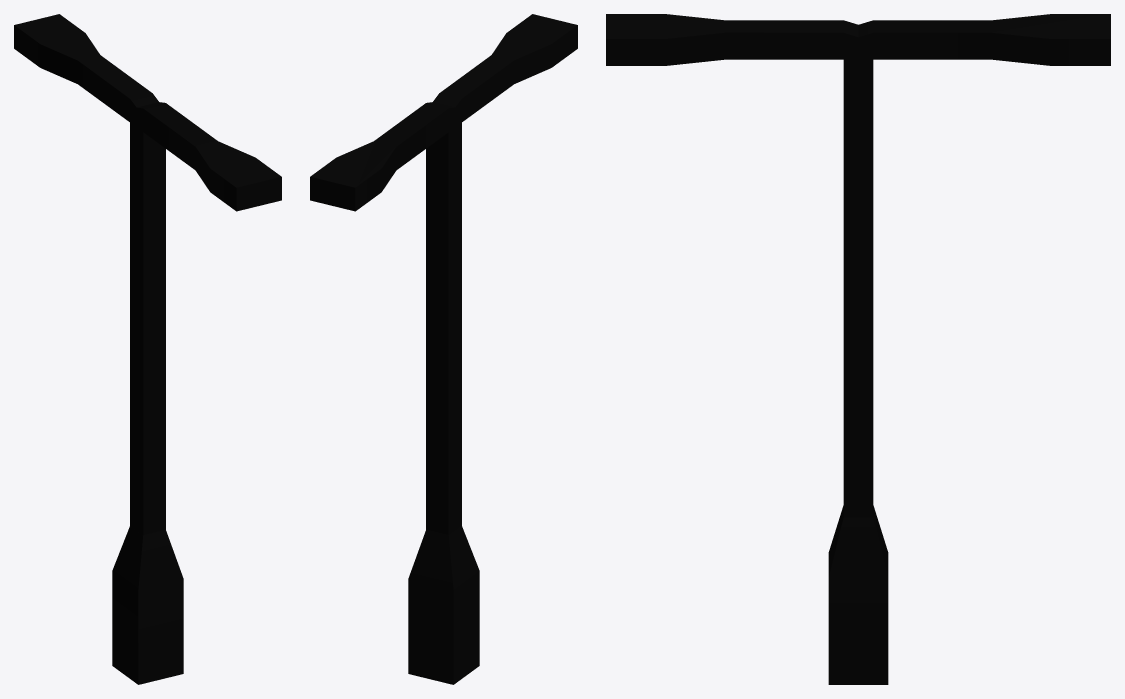
The model's file is light-square-double.glb.
3 renders of one model, left to right at view 1: azimuth 30°, elevation 25°; view 2: azimuth 150°, elevation 25°; view 3: azimuth 270°, elevation 25°, orthographic. The views are drawn at different scales.
Parts seen in each view (by area): view 1: light-square-double; view 2: light-square-double; view 3: light-square-double.
Boxes of the visible parts, box(x1,y1,x2,y2) form: light-square-double: box(14, 14, 281, 684); light-square-double: box(310, 14, 577, 684); light-square-double: box(606, 14, 1110, 684).
Size of the model in its own units: 0.05 by 0.6 by 0.425.
1 material, 1 textured.
